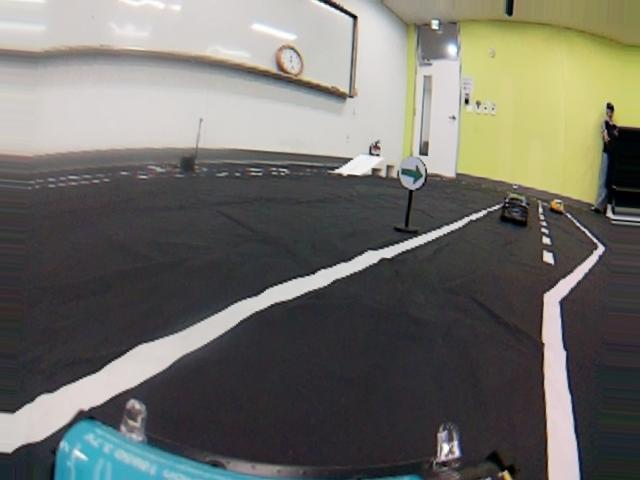car: (503, 195, 533, 226), (551, 197, 568, 214)
sign_right: (399, 155, 431, 192)
straight: (0, 182, 640, 480)
